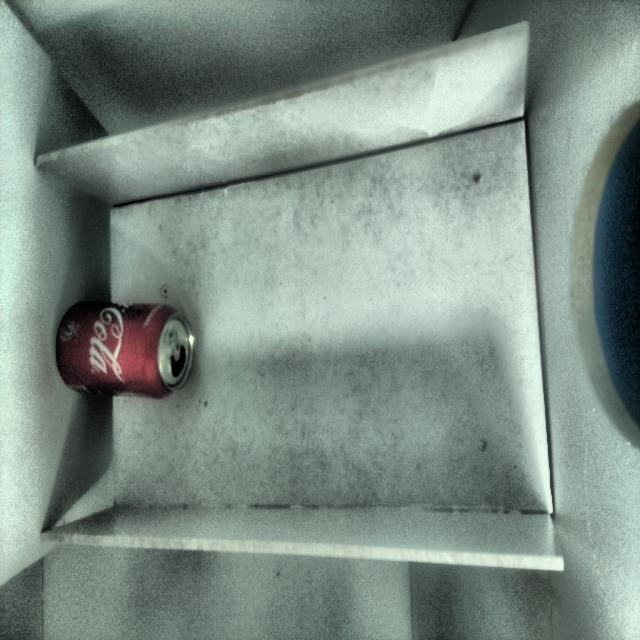Cans: (56, 302, 196, 398)
